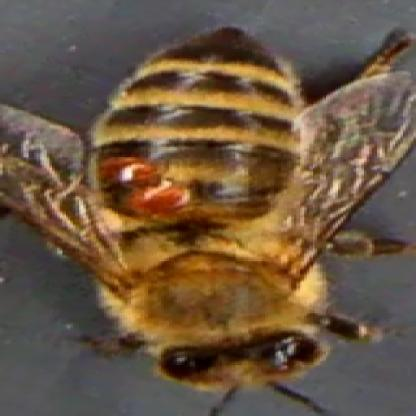bee: (100, 28, 344, 390)
vaoora: (128, 186, 193, 212), (112, 156, 157, 181)
